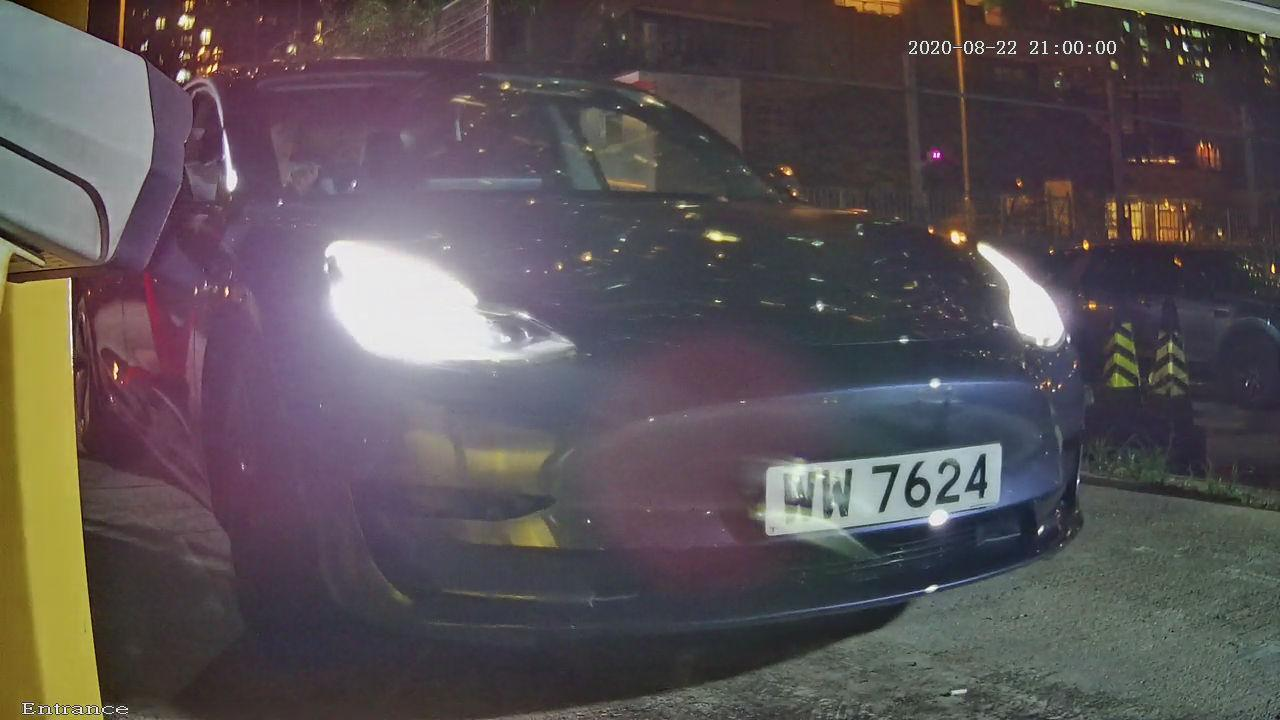Car: (23, 7, 1189, 698)
License Plate: (699, 418, 1077, 572)
